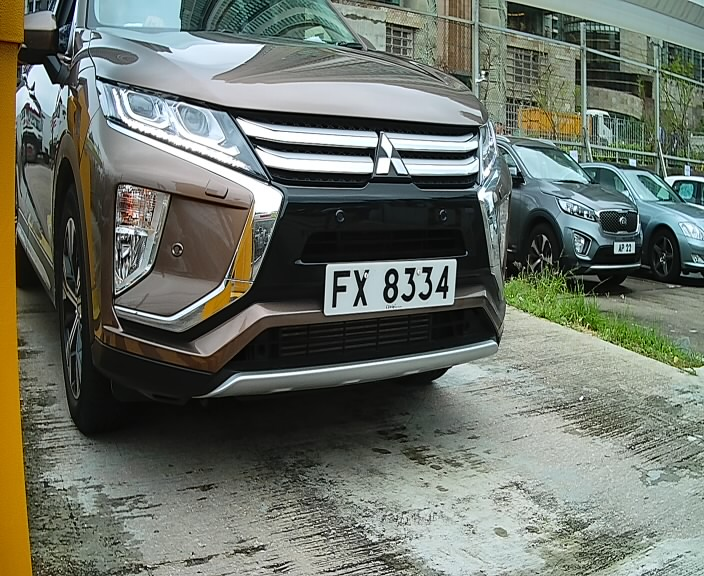License Plate: (318, 251, 466, 325)
